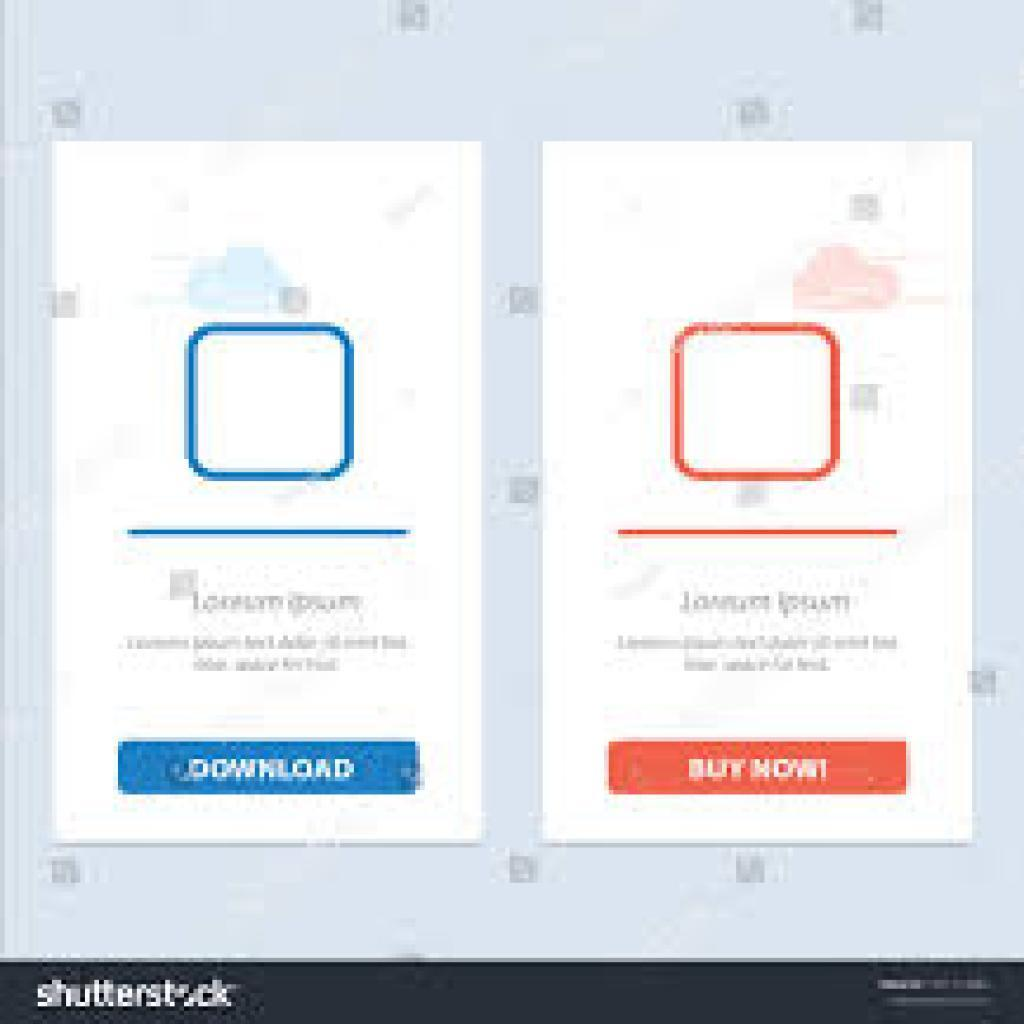button: (115, 740, 422, 798), (609, 741, 913, 798)
checkbox: (187, 325, 359, 480), (675, 326, 839, 482)
